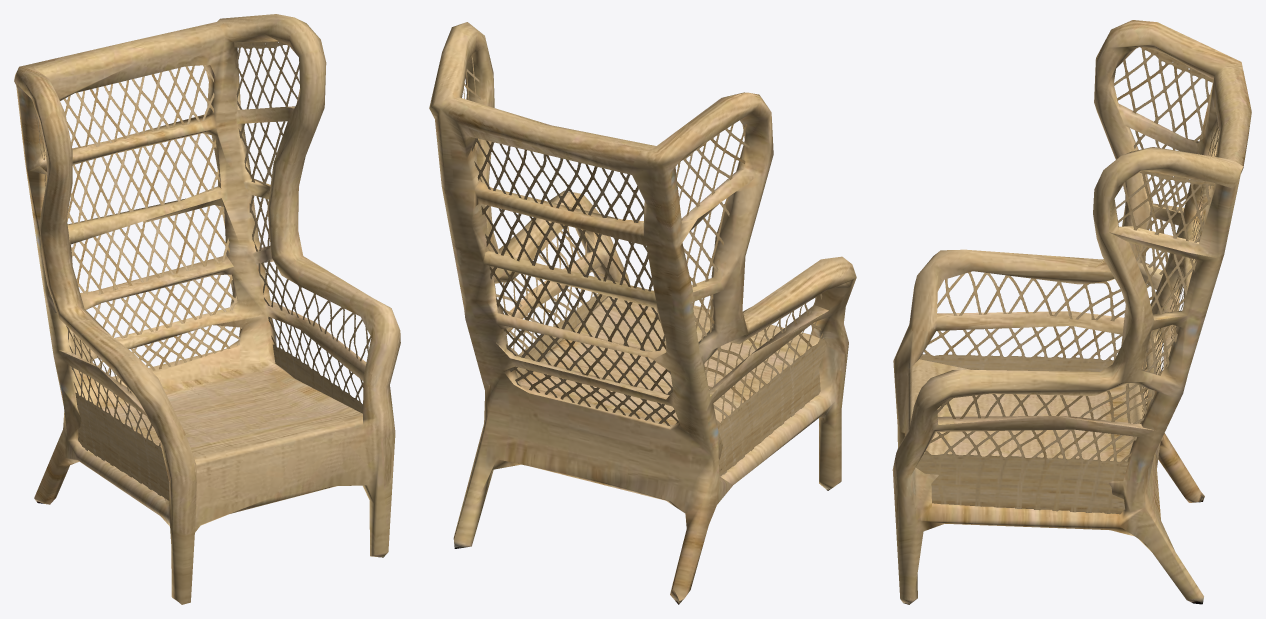
File: 14 - RISHOLMEN Wing chair, inoutdoor - brown.glb
The picture shows the model from 3 angles, left to right: view 1: azimuth 30°, elevation 25°; view 2: azimuth 150°, elevation 25°; view 3: azimuth 270°, elevation 25°; orthographic projection. The views are drawn at different scales.
Visible parts, largest first — view 1: ASY_ART_00503794_S01_NV01; view 2: ASY_ART_00503794_S01_NV01; view 3: ASY_ART_00503794_S01_NV01.
Part boxes in pixels (x1,y1,x2,y2): ASY_ART_00503794_S01_NV01: [14, 14, 400, 604]; ASY_ART_00503794_S01_NV01: [429, 22, 856, 604]; ASY_ART_00503794_S01_NV01: [892, 20, 1251, 604].
Size of the model in its own units: 0.7684 by 1.18 by 0.8292.
Materials: 2 (2 with a texture image).
